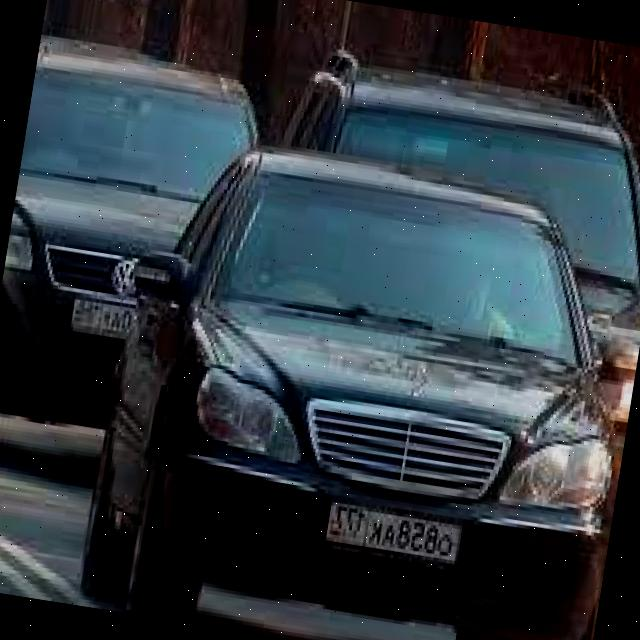number-plates: (318, 492, 474, 578)
